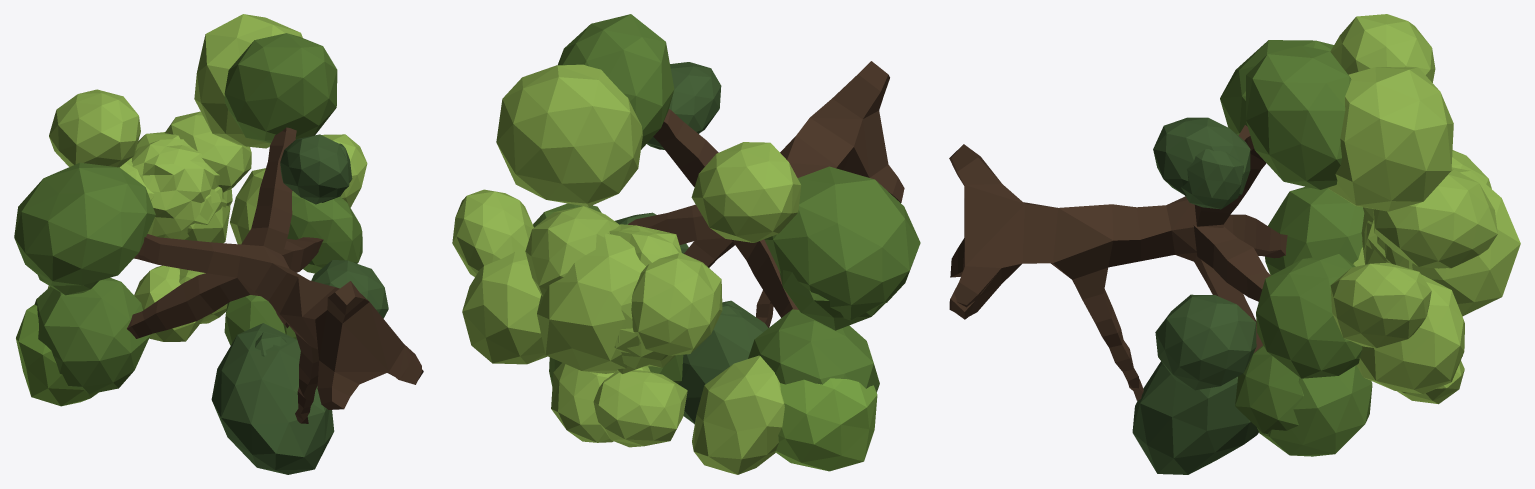
Rendered from TreeOakGreenB1.fbx.
3 views of the same model, side by side, from view 1: azimuth 30°, elevation 25°; view 2: azimuth 150°, elevation 25°; view 3: azimuth 270°, elevation 25° (orthographic). The views are drawn at different scales.
Parts seen in each view (by area): view 1: M_Tree_Leaf_Mid.001, M_Tree_Leaf_Pale.001, M_Tree_Bark.001, M_Tree_Leaf_Dark.001, M_Tree_Leaf_Light.001; view 2: M_Tree_Leaf_Pale.001, M_Tree_Leaf_Mid.001, M_Tree_Bark.001, M_Tree_Leaf_Light.001, M_Tree_Leaf_Dark.001; view 3: M_Tree_Leaf_Pale.001, M_Tree_Leaf_Mid.001, M_Tree_Bark.001, M_Tree_Leaf_Dark.001.
Part boxes in pixels (bbox=[...]): M_Tree_Leaf_Mid.001: bbox=[14, 33, 362, 394]; M_Tree_Leaf_Pale.001: bbox=[47, 14, 367, 341]; M_Tree_Bark.001: bbox=[127, 127, 423, 423]; M_Tree_Leaf_Dark.001: bbox=[211, 134, 388, 474]; M_Tree_Leaf_Light.001: bbox=[16, 304, 98, 406]; M_Tree_Leaf_Pale.001: bbox=[452, 64, 801, 474]; M_Tree_Leaf_Mid.001: bbox=[533, 14, 920, 392]; M_Tree_Bark.001: bbox=[628, 61, 904, 327]; M_Tree_Leaf_Light.001: bbox=[775, 378, 877, 471]; M_Tree_Leaf_Dark.001: bbox=[615, 62, 768, 424]; M_Tree_Leaf_Pale.001: bbox=[1327, 14, 1520, 404]; M_Tree_Leaf_Mid.001: bbox=[1220, 40, 1372, 456]; M_Tree_Bark.001: bbox=[949, 125, 1287, 400]; M_Tree_Leaf_Dark.001: bbox=[1132, 117, 1258, 474].
Bounding box in the file's own units: 2624 × 2632 × 3066.
